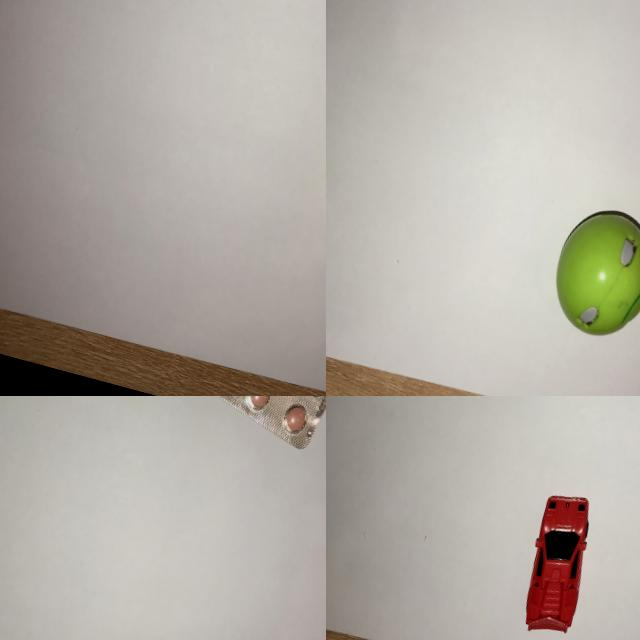car: (502, 480, 610, 640)
tablets: (88, 396, 326, 466)
toy: (534, 191, 640, 352)
